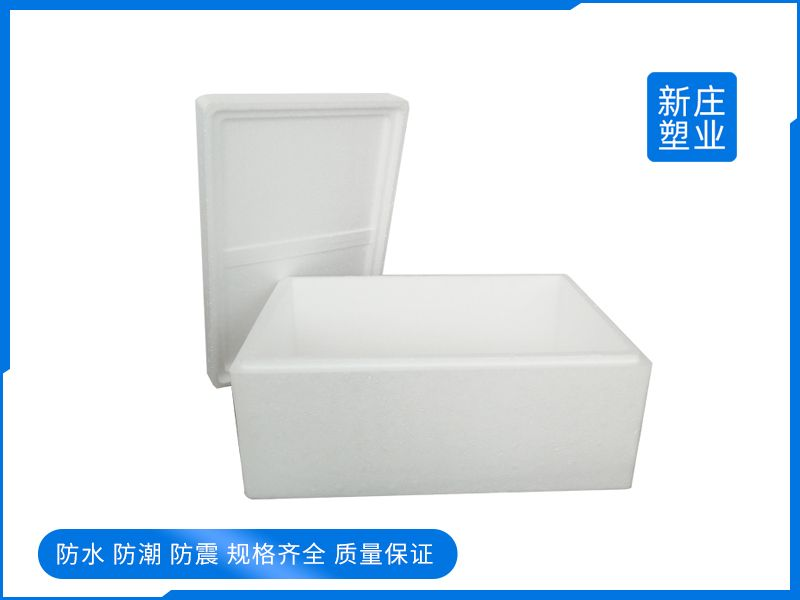泡沫箱: (196, 94, 650, 499)
